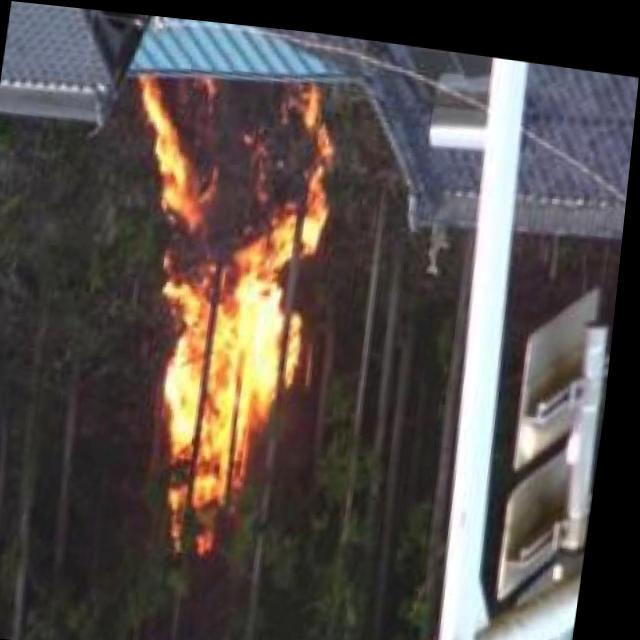fire: (96, 56, 344, 532)
